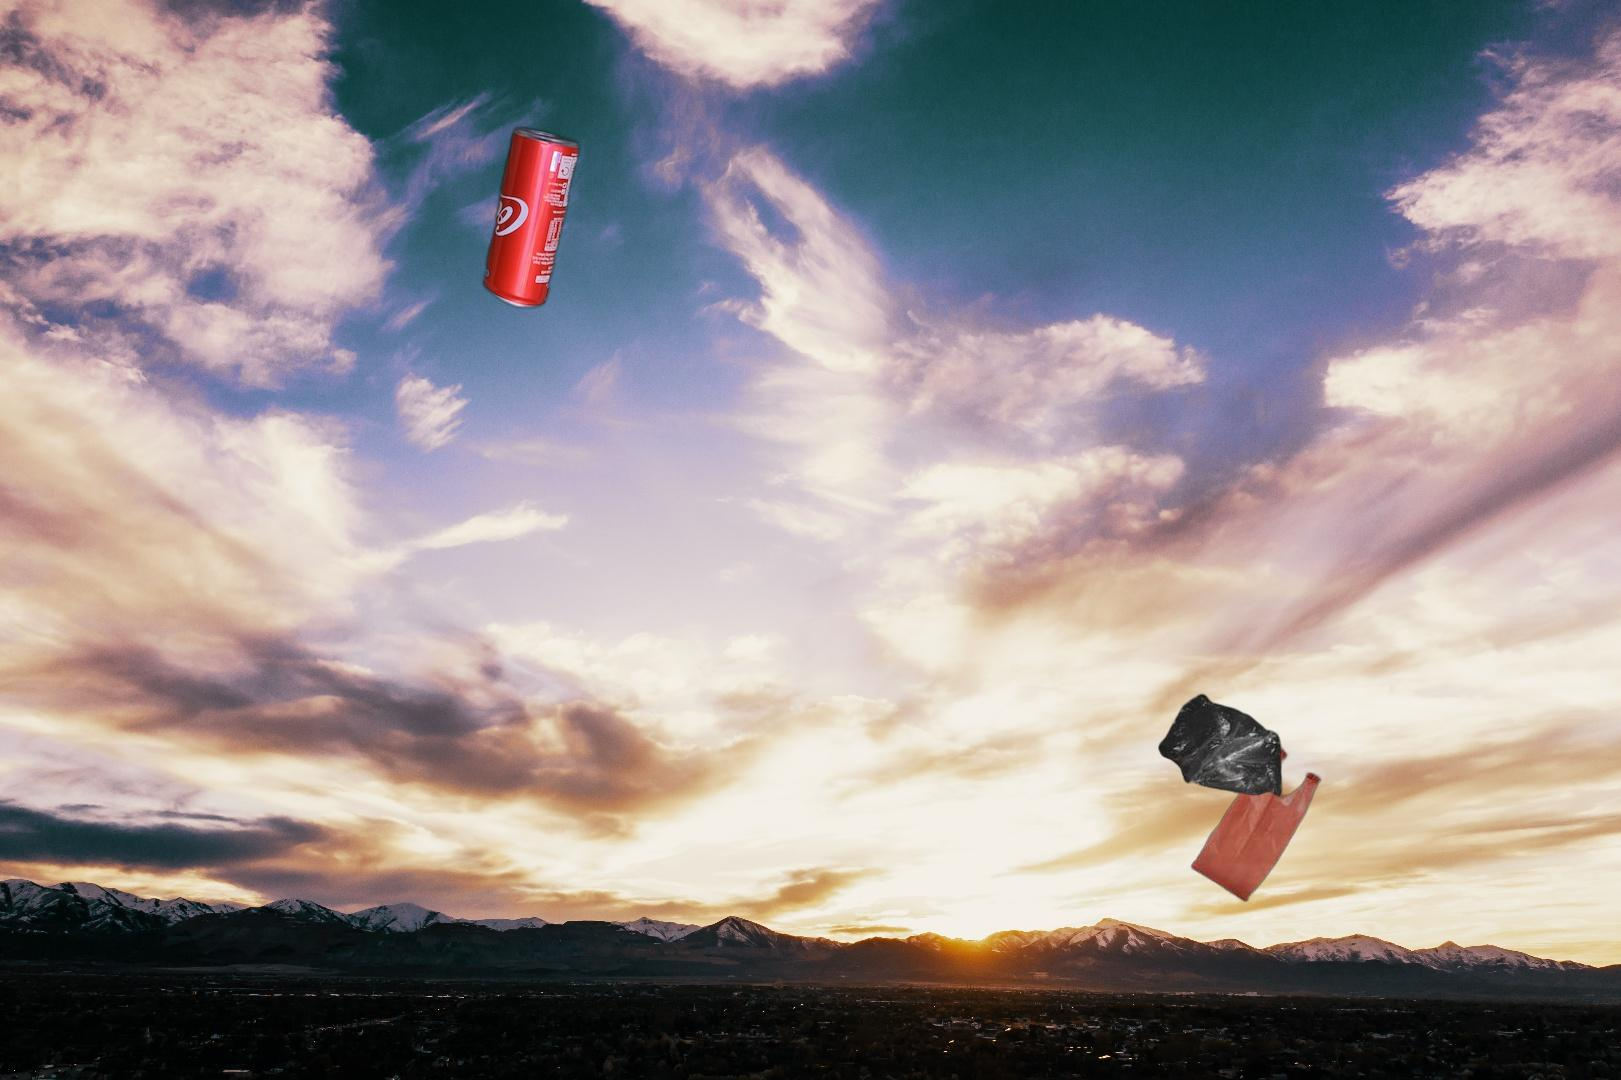metal-cans: (478, 121, 585, 313)
plastic-bag: (1155, 691, 1325, 904)
